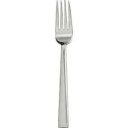Fork: (37, 1, 92, 128)
